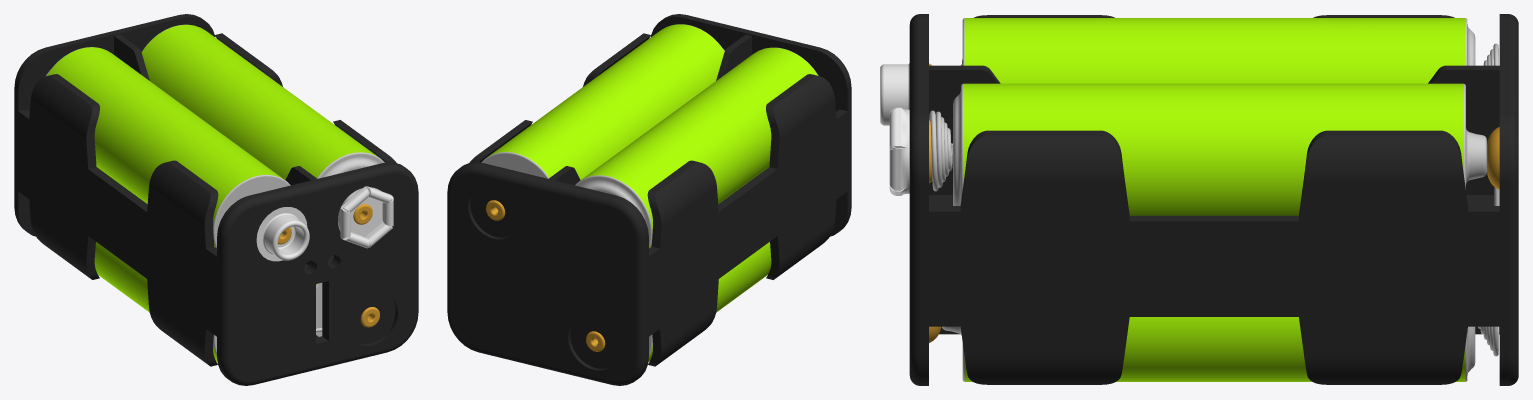
The model's file is batterywith support .fbx.
The picture shows the model from 3 angles, left to right: view 1: azimuth 30°, elevation 25°; view 2: azimuth 150°, elevation 25°; view 3: azimuth 270°, elevation 25°; orthographic projection. The views are drawn at different scales.
Visible parts, largest first — view 1: Body, AA - R6, AA - R6 C1, Body025, Body017, AA - R6 C2, AA - R6 C3, Contact 15.7mm; view 2: Body, AA - R6, AA - R6 C1, AA - R6 C2; view 3: Body, AA - R6, AA - R6 C1, AA - R6 C3, Body025, Body017, Body021, Body015.
Part boxes in pixels (x1=…): Body: x1=14, y1=14, x2=418, y2=385; AA - R6: x1=141, y1=24, x2=384, y2=179; AA - R6 C1: x1=46, y1=47, x2=290, y2=248; Body025: x1=338, y1=186, x2=393, y2=248; Body017: x1=256, y1=207, x2=309, y2=261; AA - R6 C2: x1=94, y1=242, x2=217, y2=361; AA - R6 C3: x1=316, y1=282, x2=322, y2=336; Contact 15.7mm: x1=316, y1=307, x2=379, y2=332; Body: x1=447, y1=14, x2=851, y2=385; AA - R6: x1=481, y1=24, x2=724, y2=179; AA - R6 C1: x1=575, y1=47, x2=818, y2=248; AA - R6 C2: x1=648, y1=242, x2=771, y2=361; Body: x1=909, y1=14, x2=1518, y2=385; AA - R6: x1=953, y1=83, x2=1486, y2=215; AA - R6 C1: x1=961, y1=18, x2=1475, y2=83; AA - R6 C3: x1=942, y1=317, x2=1475, y2=381; Body025: x1=889, y1=107, x2=909, y2=195; Body017: x1=880, y1=63, x2=909, y2=125; Body021: x1=929, y1=110, x2=952, y2=191; Body015: x1=1478, y1=127, x2=1499, y2=356.
Size of the model in its own units: 3.1 by 2.97 by 6.04.
